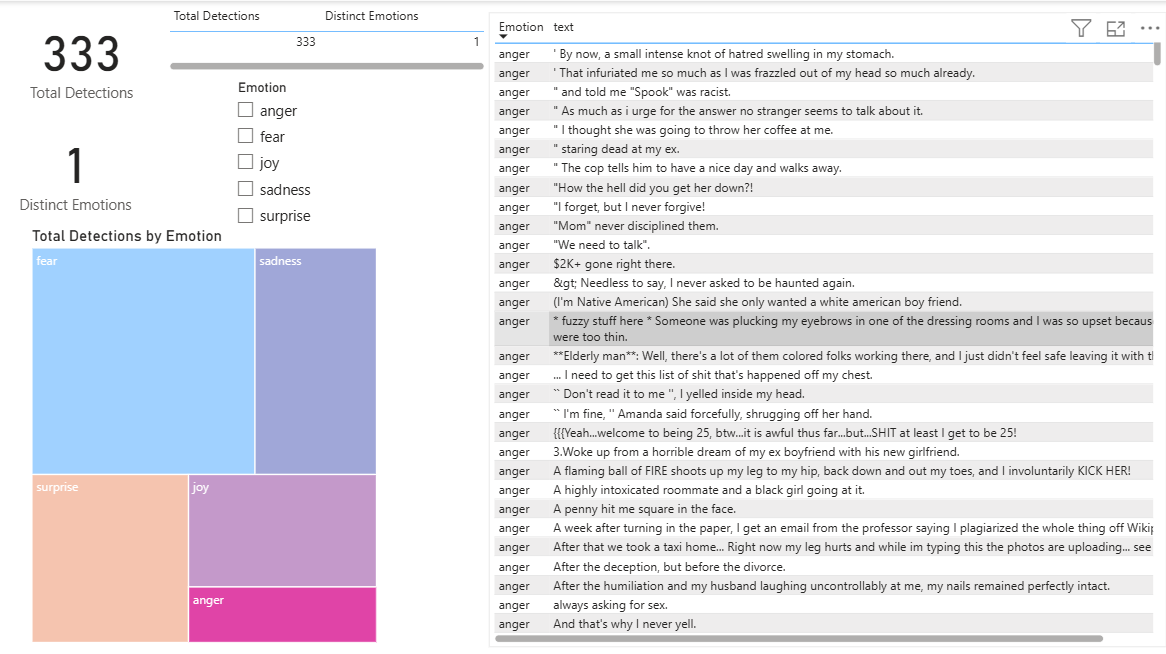

The dashboard page shown, as its layout file describes it:
{"tool":"powerbi","page":{"name":"Page 1","canvas":[1280,720],"ordinal":0},"visuals":[{"type":"tableEx","fields":{"Values":["_Measures.Total Detections","_Measures.Distinct Emotions"]},"box":[179.8,0,356.8,81],"z":0},{"type":"card","fields":{"Values":["_Measures.Total Detections"]},"box":[0,0,179.8,123.5],"z":1},{"type":"card","fields":{"Values":["_Measures.Distinct Emotions"]},"box":[0,123.5,166,122.1],"z":2},{"type":"treemap","fields":{"Group":["track-a.Emotion"],"Values":["_Measures.Total Detections"]},"box":[30.2,247,388.3,462.4],"z":3},{"type":"slicer","fields":{"Values":["track-a.Emotion"]},"box":[248.4,81,220.9,185.2],"z":4},{"type":"tableEx","fields":{"Values":["track-a.Emotion","track-a.text"]},"box":[536.5,12.3,743.7,697.1],"z":5}]}

Visuals, with their boxes in screenshot pixels (x1, y1, x2, y2), scaled from the page's 1280x720 canvas onto the 1166x654 screenshot:
tableEx - _Measures.Total Detections x _Measures.Distinct Emotions: 164, 0, 489, 74
card - _Measures.Total Detections: 0, 0, 164, 112
card - _Measures.Distinct Emotions: 0, 112, 151, 223
treemap - track-a.Emotion x _Measures.Total Detections: 28, 224, 381, 644
slicer - track-a.Emotion: 226, 74, 428, 242
tableEx - track-a.Emotion x track-a.text: 489, 11, 1165, 644
